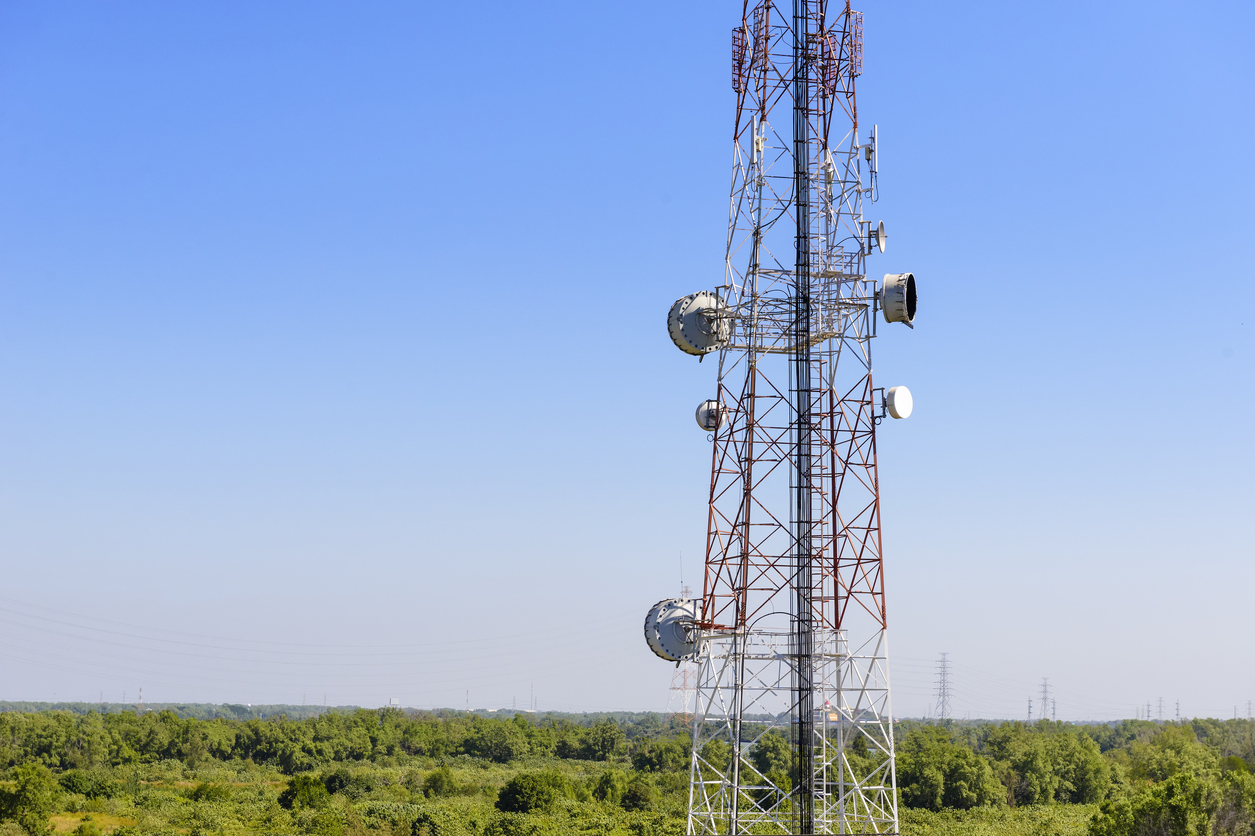ba: (629, 579, 716, 677), (877, 270, 921, 338)
sa: (745, 110, 770, 185), (860, 121, 884, 192)
